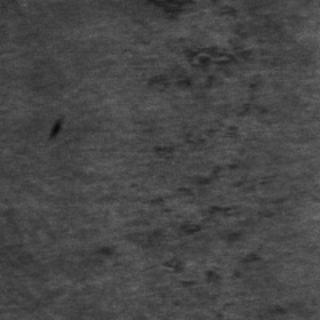rolled pit: (134, 112, 278, 284), (131, 36, 259, 104)
